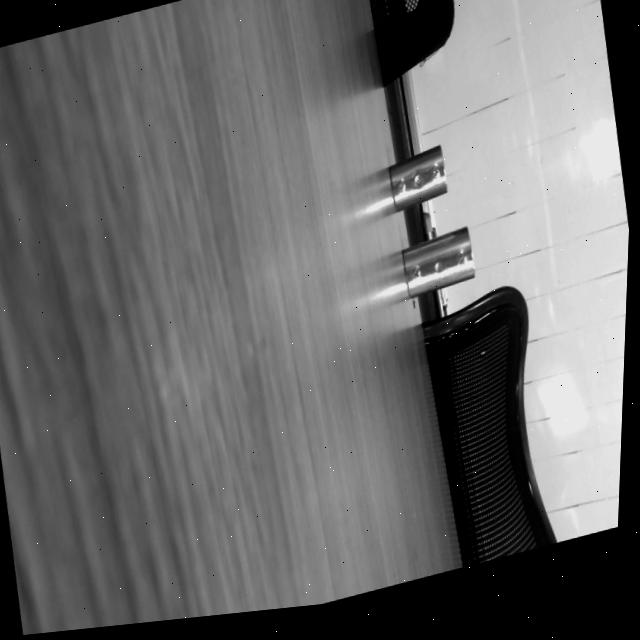Co_Lon: (394, 226, 483, 298)
Co_Nho: (380, 145, 457, 212)
